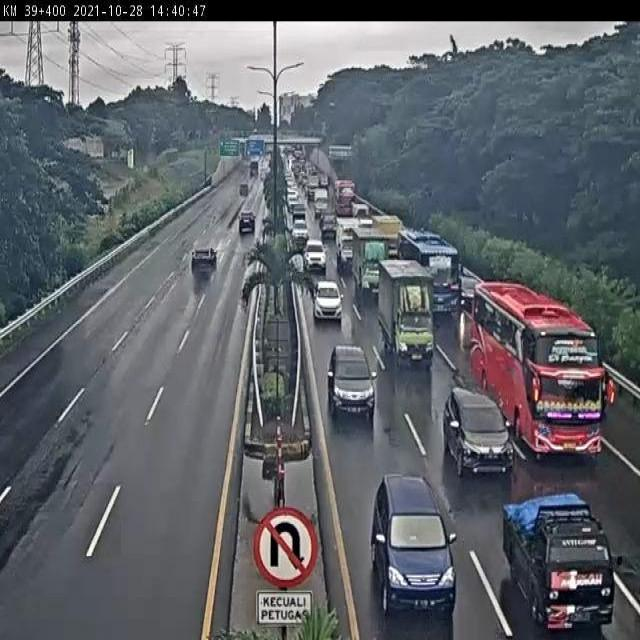bus-l-: (471, 283, 602, 460), (396, 228, 461, 321)
car: (502, 496, 617, 627), (371, 472, 457, 612), (443, 387, 516, 472), (326, 344, 377, 419), (312, 281, 344, 324), (460, 273, 484, 312)
mid truck: (190, 242, 218, 274)
truck-m-: (379, 261, 436, 364), (350, 223, 389, 301)
